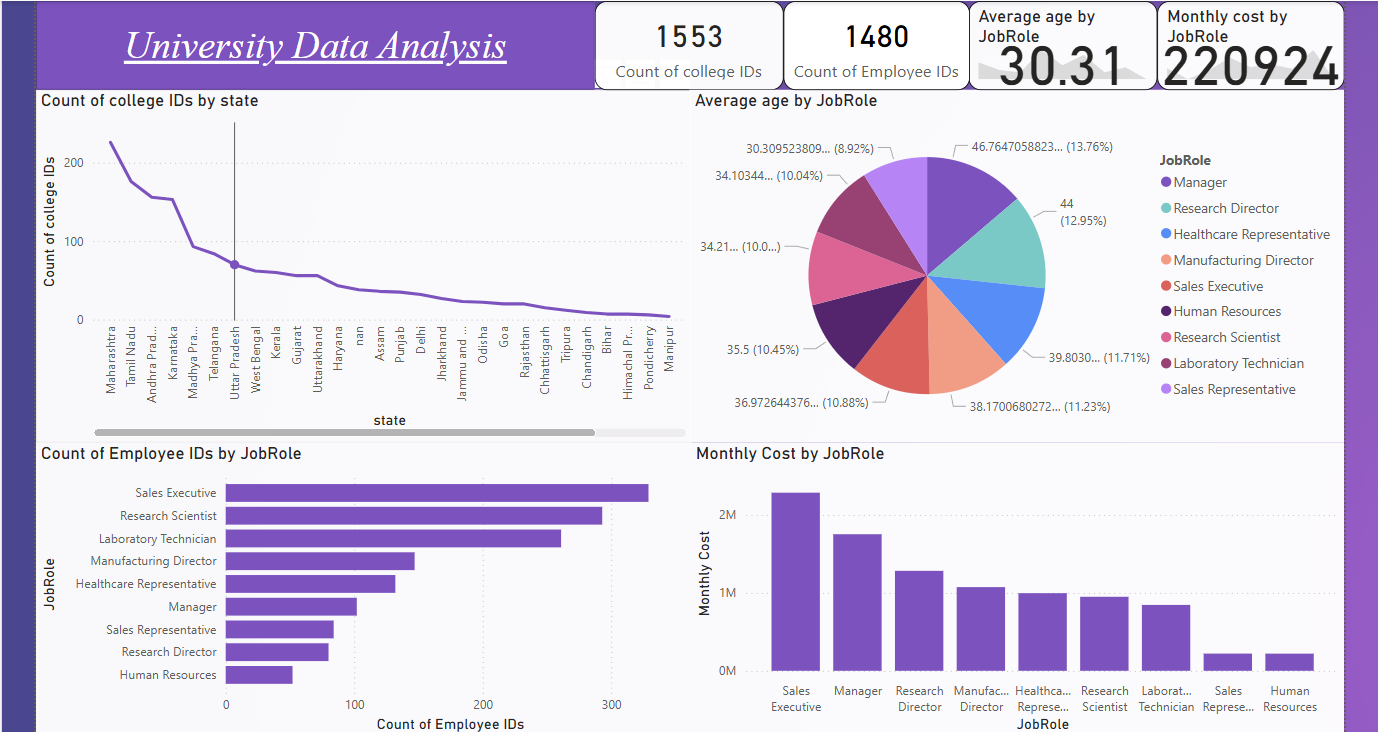

What the dashboard file says about the page in this screenshot:
{"tool":"powerbi","page":{"name":"Page 1","canvas":[1280,720],"ordinal":0},"visuals":[{"type":"lineChart","fields":{"Y":["Colleges_Dataset.Measure"],"Category":["Colleges_Dataset.state"]},"box":[0,86.8,640.8,344.8],"z":0},{"type":"card","fields":{"Values":["CountNonNull(Colleges_Dataset.state)"]},"box":[546.6,0,184.6,86.8],"z":1000},{"type":"pieChart","fields":{"Category":["HR_Analytics.JobRole"],"Y":["HR_Analytics.Measure 2"]},"box":[639.5,86.8,640.8,344.8],"z":2000},{"type":"kpi","fields":{"Indicator":["HR_Analytics.Measure 2"],"TrendLine":["HR_Analytics.JobRole"]},"box":[912.2,0,184.6,86.8],"z":3000},{"type":"shape","title":"C","box":[0,0,546.6,86.8],"z":4000},{"type":"clusteredColumnChart","fields":{"Y":["HR_Analytics.Measure 3"],"Category":["HR_Analytics.JobRole"]},"box":[640.8,431.7,639.5,288.6],"z":5000},{"type":"kpi","fields":{"Indicator":["HR_Analytics.Measure 3"],"TrendLine":["HR_Analytics.JobRole"]},"box":[1096.9,0,183.4,86.8],"z":6000},{"type":"clusteredBarChart","fields":{"Category":["HR_Analytics.JobRole"],"Y":["HR_Analytics.Measure 4"]},"box":[0,431.7,640.8,288.6],"z":7000},{"type":"card","fields":{"Values":["HR_Analytics.Measure 4"]},"box":[731.3,0,182.2,86.8],"z":8000}]}

Visuals, with their boxes on the page's 1280x720 design canvas (x1, y1, x2, y2). These are canvas units, not pixel positions in the 1378x732 screenshot, which may show the page scaled, cropped or inside an application window:
lineChart - Colleges_Dataset.Measure x Colleges_Dataset.state: bbox=[0, 87, 641, 432]
card - CountNonNull(Colleges_Dataset.state): bbox=[547, 0, 731, 87]
pieChart - HR_Analytics.JobRole x HR_Analytics.Measure 2: bbox=[640, 87, 1280, 432]
kpi - HR_Analytics.Measure 2 x HR_Analytics.JobRole: bbox=[912, 0, 1097, 87]
"C" shape: bbox=[0, 0, 547, 87]
clusteredColumnChart - HR_Analytics.Measure 3 x HR_Analytics.JobRole: bbox=[641, 432, 1280, 720]
kpi - HR_Analytics.Measure 3 x HR_Analytics.JobRole: bbox=[1097, 0, 1280, 87]
clusteredBarChart - HR_Analytics.JobRole x HR_Analytics.Measure 4: bbox=[0, 432, 641, 720]
card - HR_Analytics.Measure 4: bbox=[731, 0, 914, 87]
